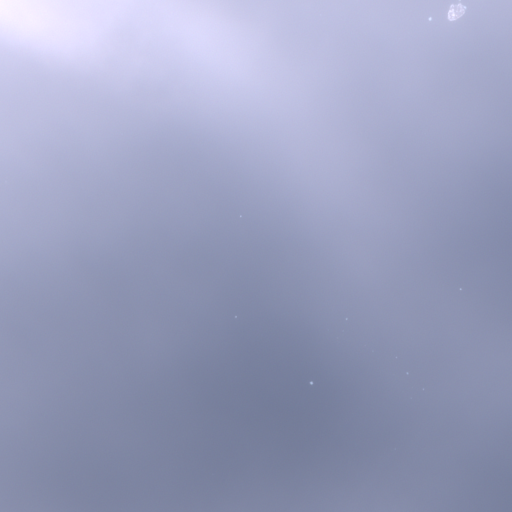Iceberg: (447, 3, 466, 20), (429, 17, 431, 20), (310, 381, 312, 384), (240, 215, 241, 217), (460, 288, 461, 289), (235, 316, 236, 317), (346, 318, 347, 319), (407, 372, 408, 373)
